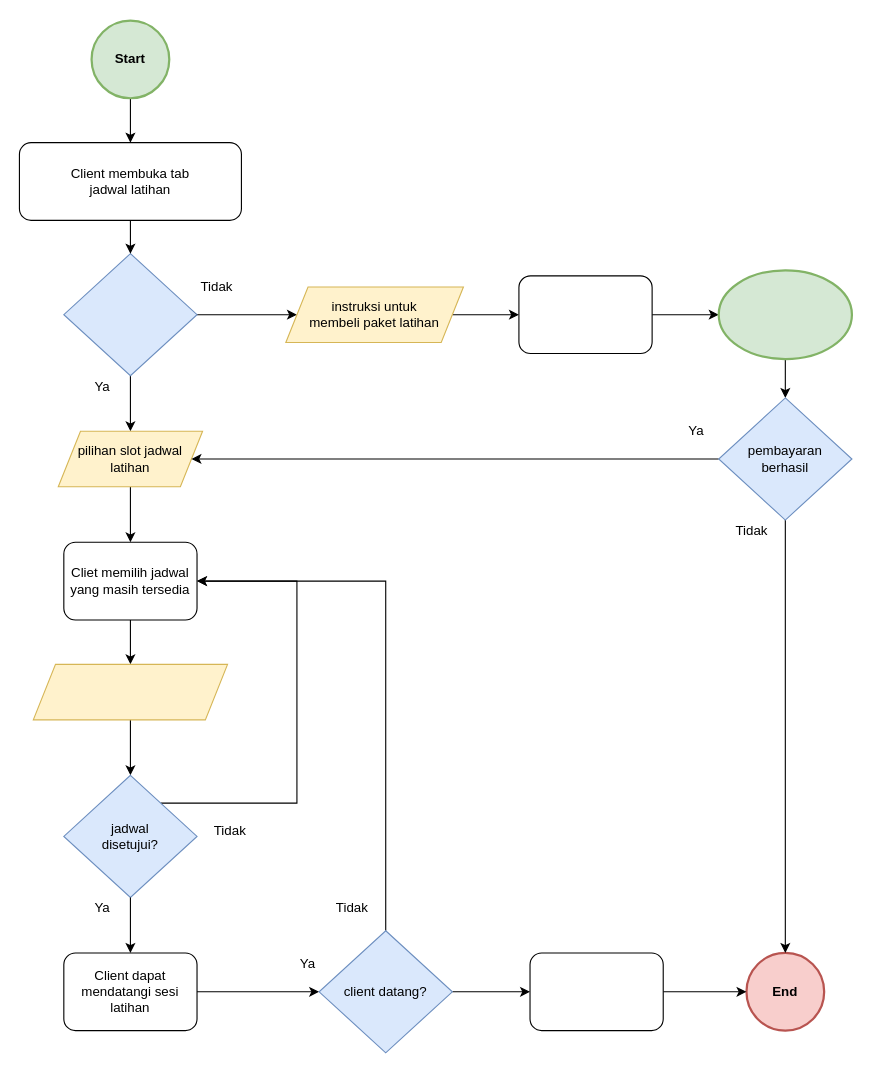
The diagram is 872 pixels wide and 1072 high, and some of its shapes have lost their labels. The shapes that lost their labels are listed below. From the top down, each one's centre as x and y in pixels, then its label:
the point at 130,314: Client memiliki kuota paket latihan?
the point at 585,314: Client memilih paket latihan
the point at 784,314: client melakukan pembayaran
the point at 130,691: status jadwal menunggu konfirmasi staff
the point at 596,991: Latihan dilaksanakan
